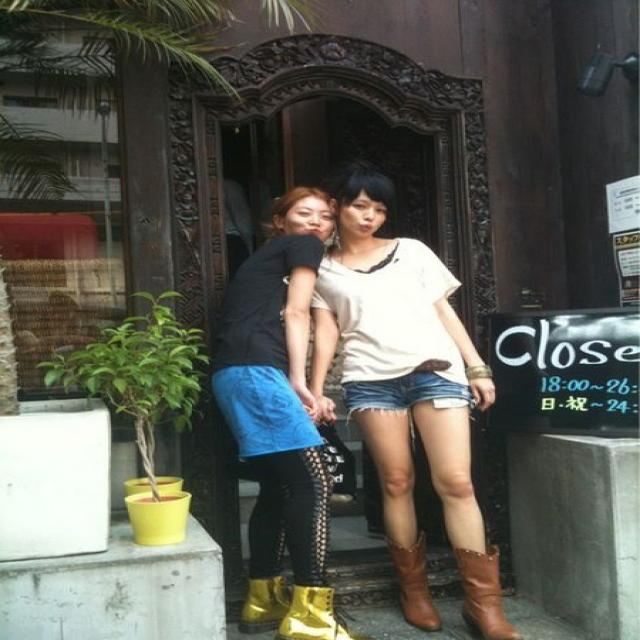mask: (339, 188, 386, 236)
nomask: (284, 196, 330, 239)
